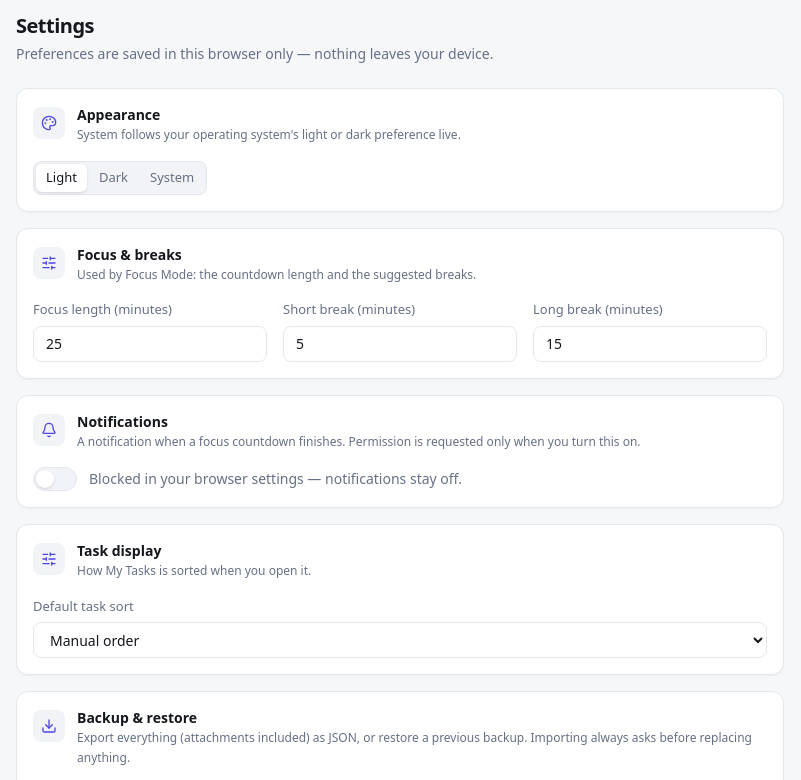
Scenario: SettingsView › keeps notifications off when permission is denied, with an explanation
The image size is (801, 780).
Click the switch named "Focus notifications": [55, 479] box top-left (33, 467), bottom-right (77, 491)
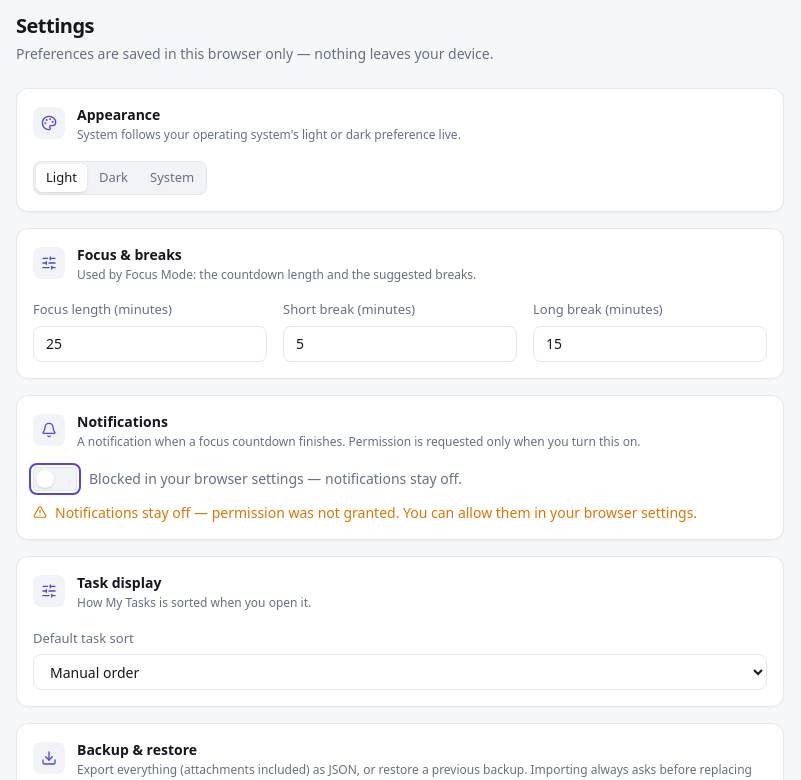
Now the text "permission was not granted" is shown, box top-left (55, 503), bottom-right (697, 522)
